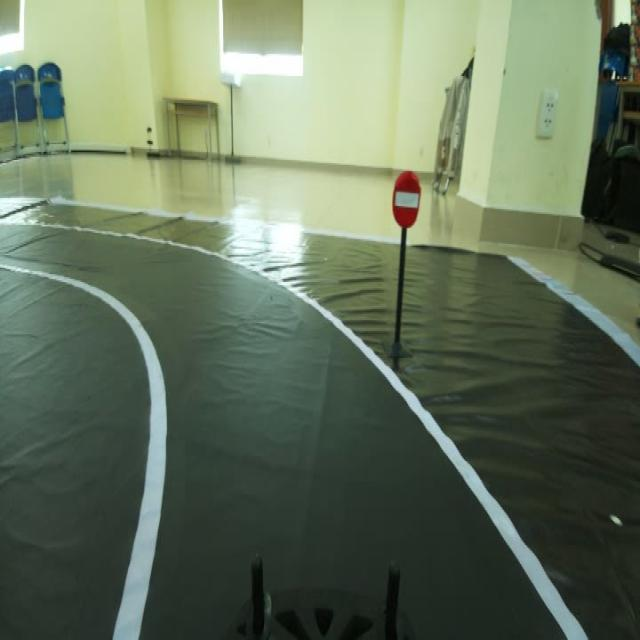no_entry: (389, 159, 421, 234)
